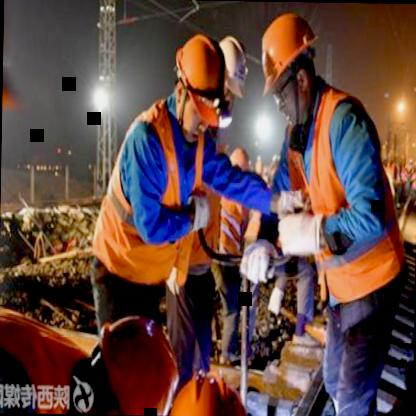helmet: (75, 304, 190, 416), (256, 10, 326, 119), (174, 32, 233, 142), (211, 30, 246, 94)
